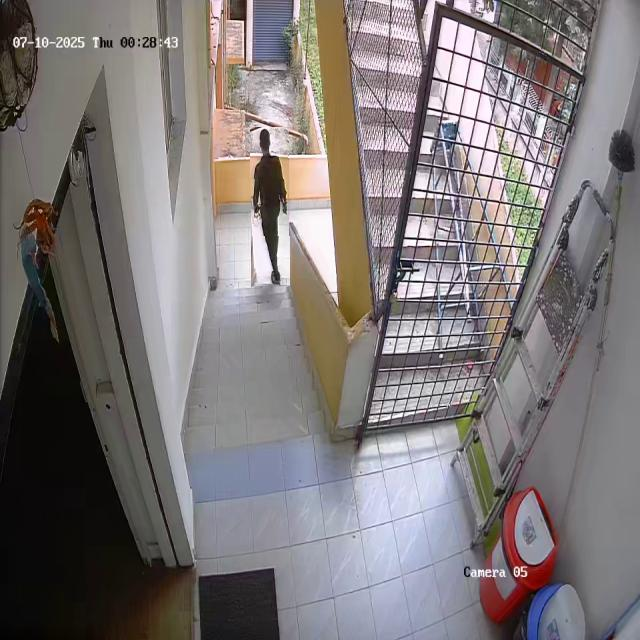person: (251, 128, 289, 288)
